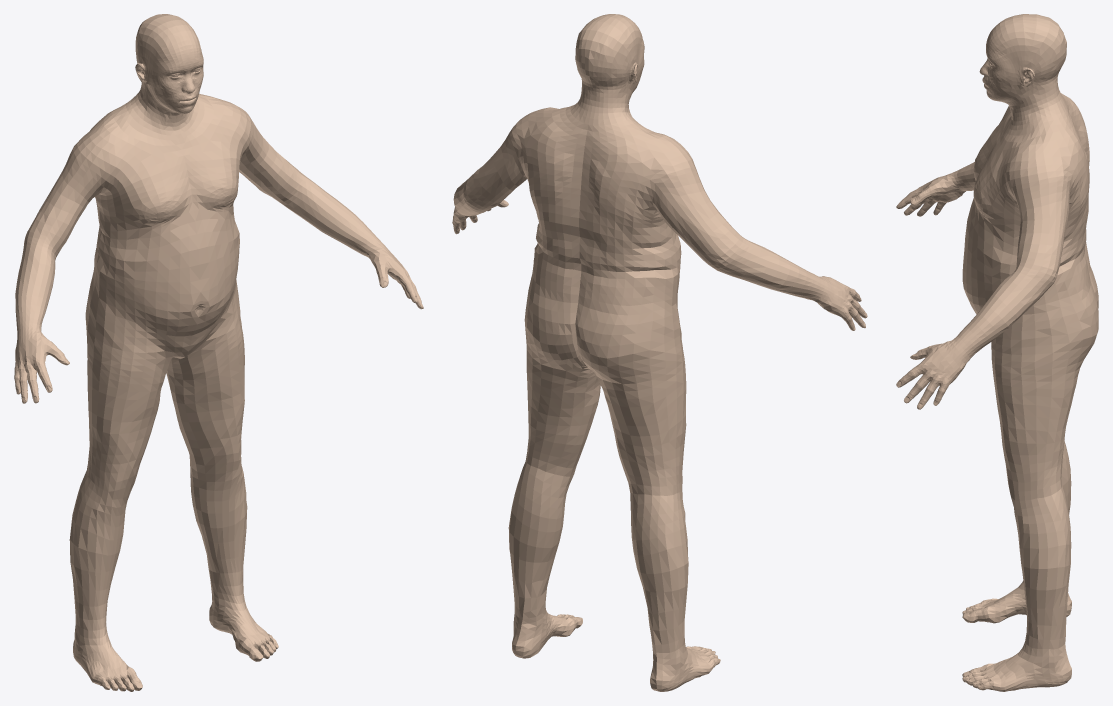
File: male-young-max-low.glb
3 renders of one model, left to right at view 1: azimuth 30°, elevation 25°; view 2: azimuth 150°, elevation 25°; view 3: azimuth 270°, elevation 25°, orthographic.
Visible parts, largest first — view 1: world; view 2: world; view 3: world.
Part boxes in pixels (left/top/right/bottom): world: left=14, top=14, right=423, bottom=691; world: left=452, top=14, right=867, bottom=691; world: left=896, top=14, right=1098, bottom=691.
Bounding box in the file's own units: 1.24 × 1.89 × 0.5469.
